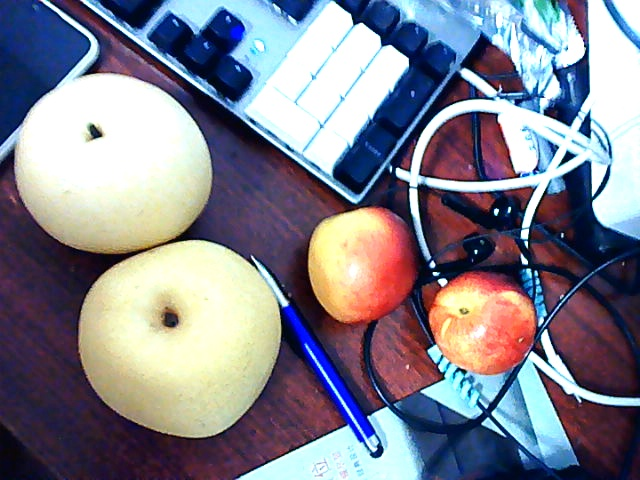peach: (306, 209, 420, 320), (432, 261, 537, 371)
pear: (78, 244, 283, 434), (9, 83, 219, 254)
